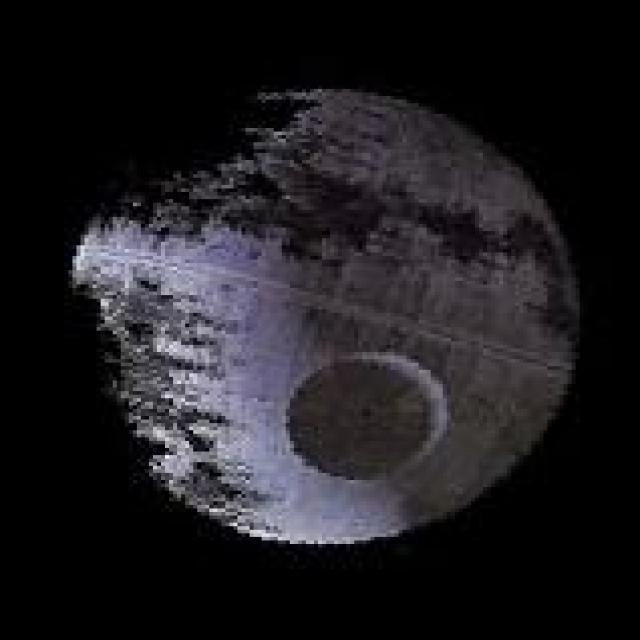Death Star: (60, 78, 588, 551)
